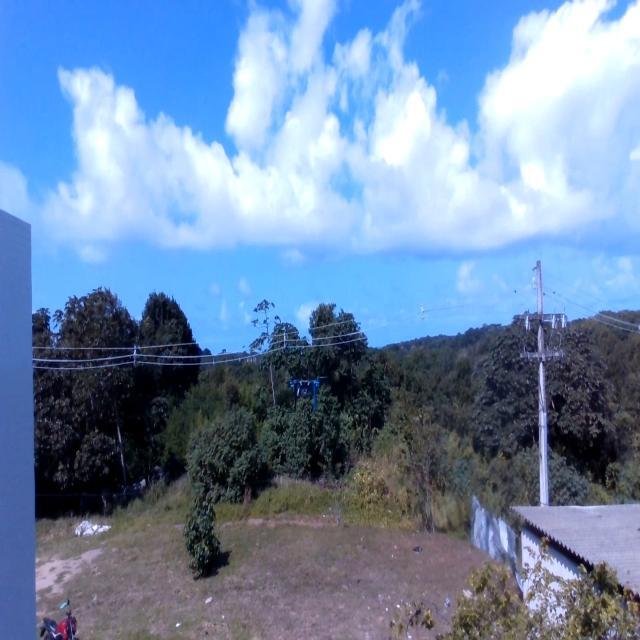-uav-: (284, 370, 327, 410)
